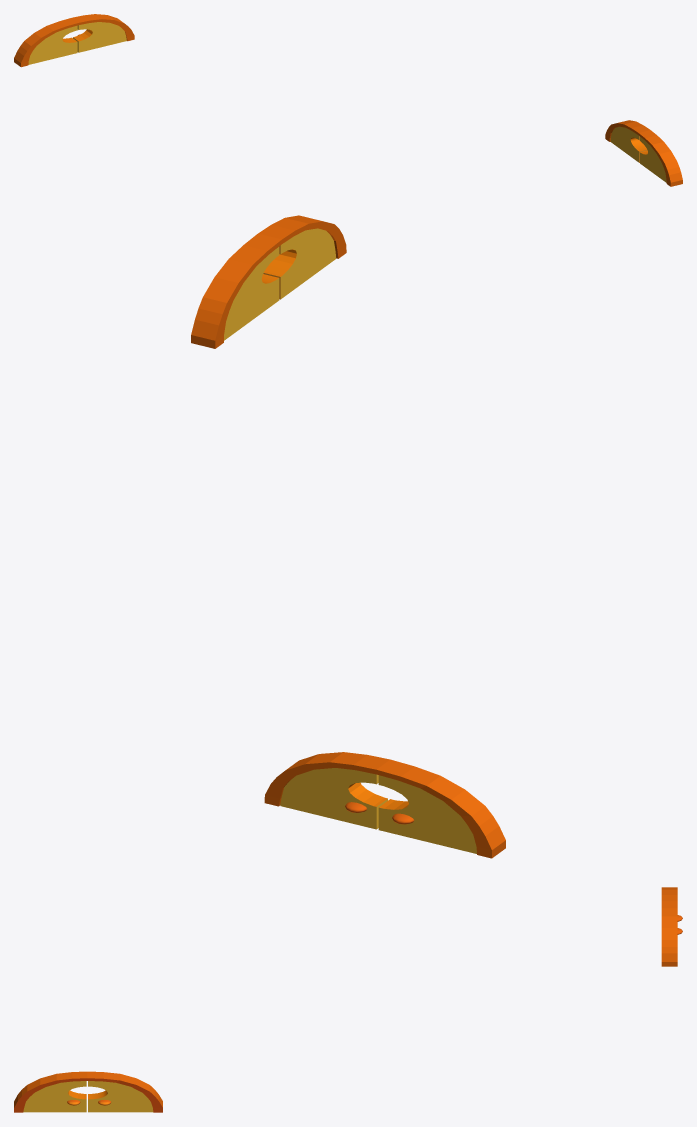
File: Garden_lv2_v2.FBX
The picture shows the model from 3 angles, top to bottom: view 1: azimuth 30°, elevation 25°; view 2: azimuth 150°, elevation 25°; view 3: azimuth 270°, elevation 25°; orthographic projection. The views are drawn at different scales.
Parts seen in each view (by area): view 1: LV2; view 2: LV2; view 3: LV2.
Part boxes in pixels (<box>): LV2: <box>14,14,682,186</box>; LV2: <box>191,215,505,858</box>; LV2: <box>14,887,682,1112</box>.
Bounding box in the file's own units: 19.6 × 1.5 × 26.23.
